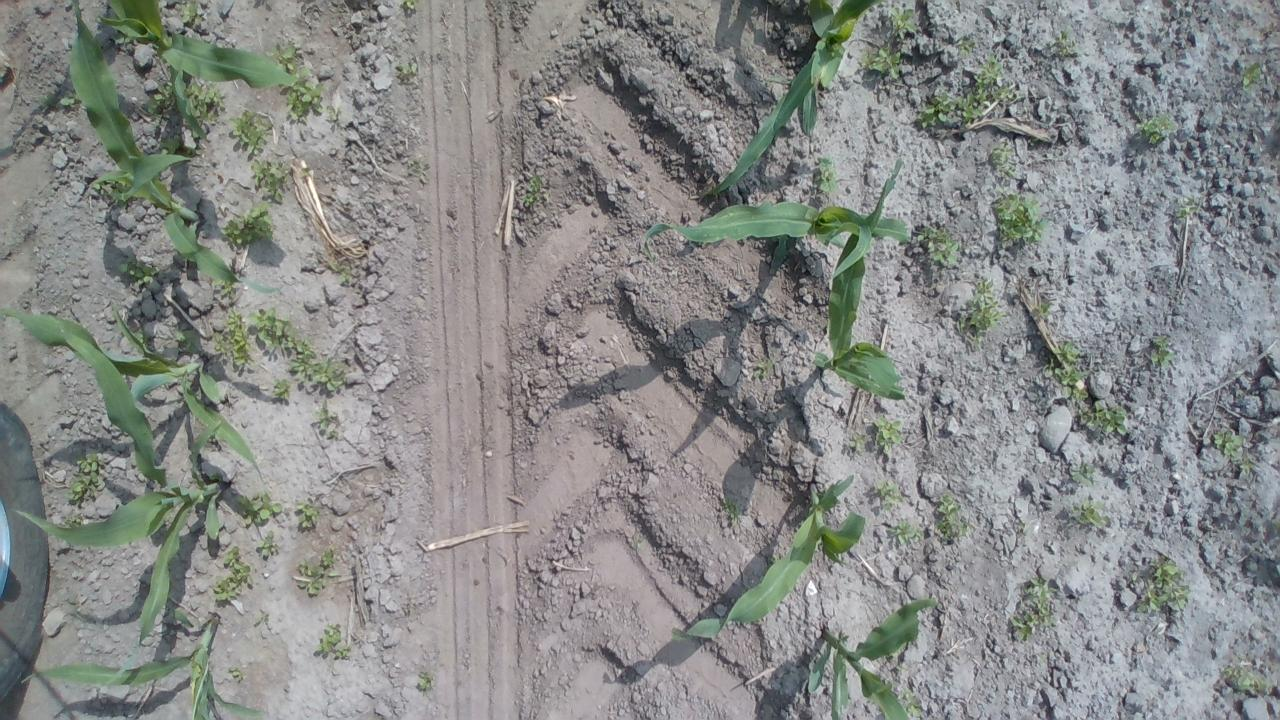Maize: (0, 306, 232, 640), (66, 0, 283, 296), (699, 0, 891, 198), (670, 474, 866, 644), (19, 614, 268, 720), (96, 302, 256, 464), (819, 159, 906, 402), (92, 0, 308, 92), (808, 597, 941, 720), (642, 202, 911, 262)
Weeds: (1128, 554, 1192, 614), (958, 279, 1008, 351), (992, 184, 1049, 244), (1009, 575, 1058, 642), (248, 304, 316, 352), (918, 88, 984, 132), (212, 308, 256, 369), (1044, 340, 1088, 401), (220, 200, 275, 246), (287, 350, 347, 391), (210, 546, 253, 602), (1222, 654, 1277, 697), (227, 109, 274, 158), (294, 547, 340, 597), (974, 55, 1022, 102), (250, 156, 294, 205), (64, 452, 106, 502), (286, 68, 326, 120), (238, 488, 284, 528), (186, 80, 226, 126), (918, 226, 961, 267), (1077, 401, 1127, 435), (934, 494, 970, 540), (146, 81, 179, 126), (859, 46, 902, 80), (312, 622, 352, 658), (1136, 114, 1178, 145), (1070, 496, 1110, 528), (886, 2, 920, 38), (118, 255, 160, 284), (1044, 25, 1078, 60), (874, 414, 905, 452), (988, 136, 1016, 177), (94, 178, 129, 209), (312, 404, 342, 440), (888, 518, 926, 546), (322, 254, 354, 286), (814, 152, 838, 194), (294, 496, 322, 528), (873, 478, 904, 506), (1214, 430, 1245, 458), (164, 601, 196, 628), (266, 45, 298, 71), (34, 92, 80, 110), (1150, 334, 1174, 368), (898, 686, 922, 718), (769, 236, 788, 276), (520, 174, 542, 206), (1070, 462, 1097, 488), (175, 326, 200, 354), (181, 0, 204, 30), (210, 278, 236, 304), (405, 158, 430, 184), (718, 496, 742, 523), (255, 532, 278, 559), (1242, 63, 1262, 88), (271, 378, 291, 401), (394, 62, 417, 80), (753, 358, 773, 378), (1175, 200, 1199, 216), (848, 430, 866, 450), (1032, 302, 1050, 322), (416, 671, 433, 691), (64, 514, 88, 528), (228, 664, 248, 680), (958, 39, 976, 56), (1238, 458, 1254, 476), (135, 325, 148, 346), (112, 33, 131, 43), (401, 0, 417, 10), (896, 662, 909, 673), (1014, 519, 1026, 529)
